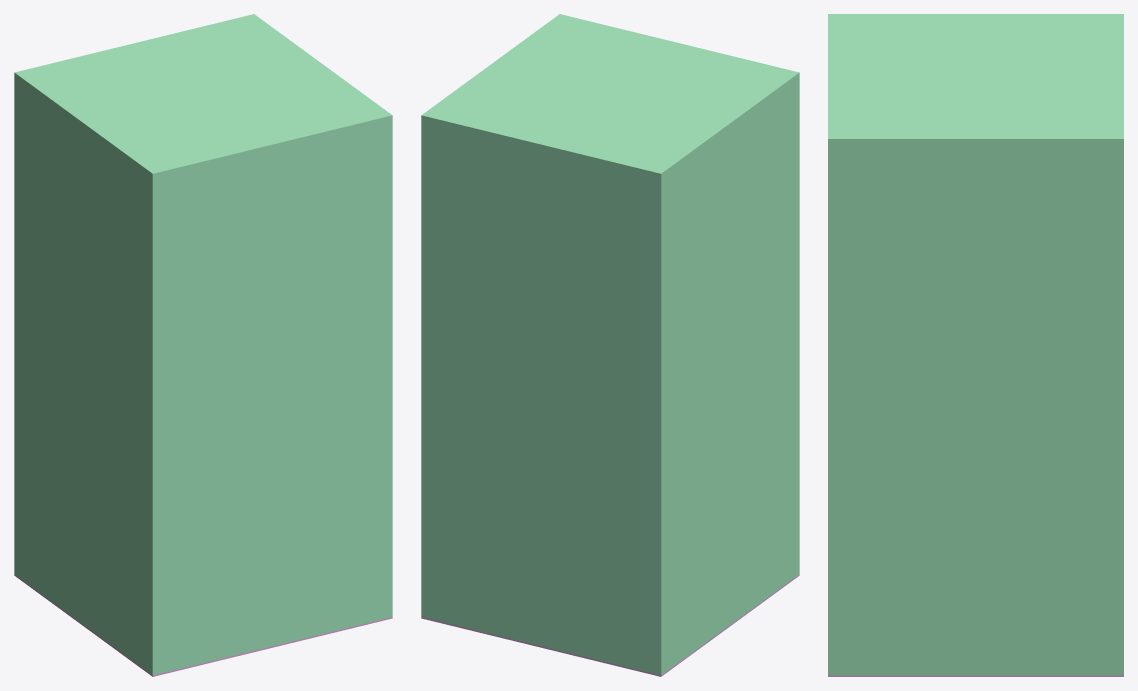
The model's file is tallhblock.glb.
The picture shows the model from 3 angles, left to right: view 1: azimuth 30°, elevation 25°; view 2: azimuth 150°, elevation 25°; view 3: azimuth 270°, elevation 25°; orthographic projection. The views are drawn at different scales.
Parts seen in each view (by area): view 1: S5|SM_HescoBarrier_Tall_Stage5_01a#0, S1|SM_HescoBarrier_Tall_Stage1_01a#0; view 2: S5|SM_HescoBarrier_Tall_Stage5_01a#0, S1|SM_HescoBarrier_Tall_Stage1_01a#0; view 3: S5|SM_HescoBarrier_Tall_Stage5_01a#0, S1|SM_HescoBarrier_Tall_Stage1_01a#0.
Part boxes in pixels (x1,y1,x2,y2): S5|SM_HescoBarrier_Tall_Stage5_01a#0: (14,14,392,675); S1|SM_HescoBarrier_Tall_Stage1_01a#0: (14,574,392,676); S5|SM_HescoBarrier_Tall_Stage5_01a#0: (421,14,799,675); S1|SM_HescoBarrier_Tall_Stage1_01a#0: (421,574,799,676); S5|SM_HescoBarrier_Tall_Stage5_01a#0: (828,14,1123,675); S1|SM_HescoBarrier_Tall_Stage1_01a#0: (828,675,1123,676).
Size of the model in its own units: 1.5 by 3.01 by 1.5.
